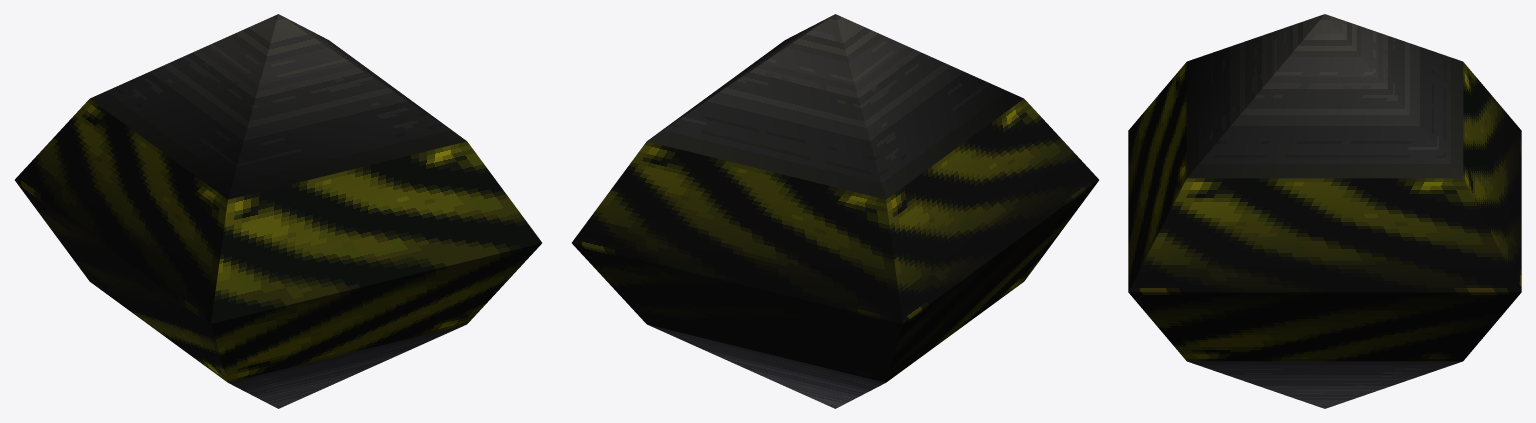
Rendered from mine.glb.
The picture shows the model from 3 angles, left to right: view 1: azimuth 30°, elevation 25°; view 2: azimuth 150°, elevation 25°; view 3: azimuth 270°, elevation 25°; orthographic projection.
Visible parts, largest first — view 1: Mesh_0; view 2: Mesh_0; view 3: Mesh_0.
Boxes of the visible parts, <box> form: Mesh_0: <box>15,14,541,408</box>; Mesh_0: <box>572,14,1098,408</box>; Mesh_0: <box>1128,14,1521,408</box>.
Bounding box in the file's own units: 0.6761 × 0.77 × 0.6948.
2 materials, 2 textured.
